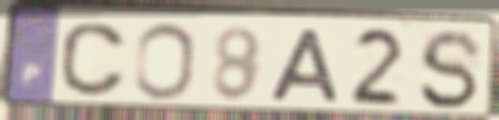2: (348, 24, 409, 111)
8: (209, 24, 264, 103)
A: (267, 27, 344, 104)
C: (57, 20, 130, 100)
O: (131, 20, 196, 103)
S: (416, 27, 486, 112)
